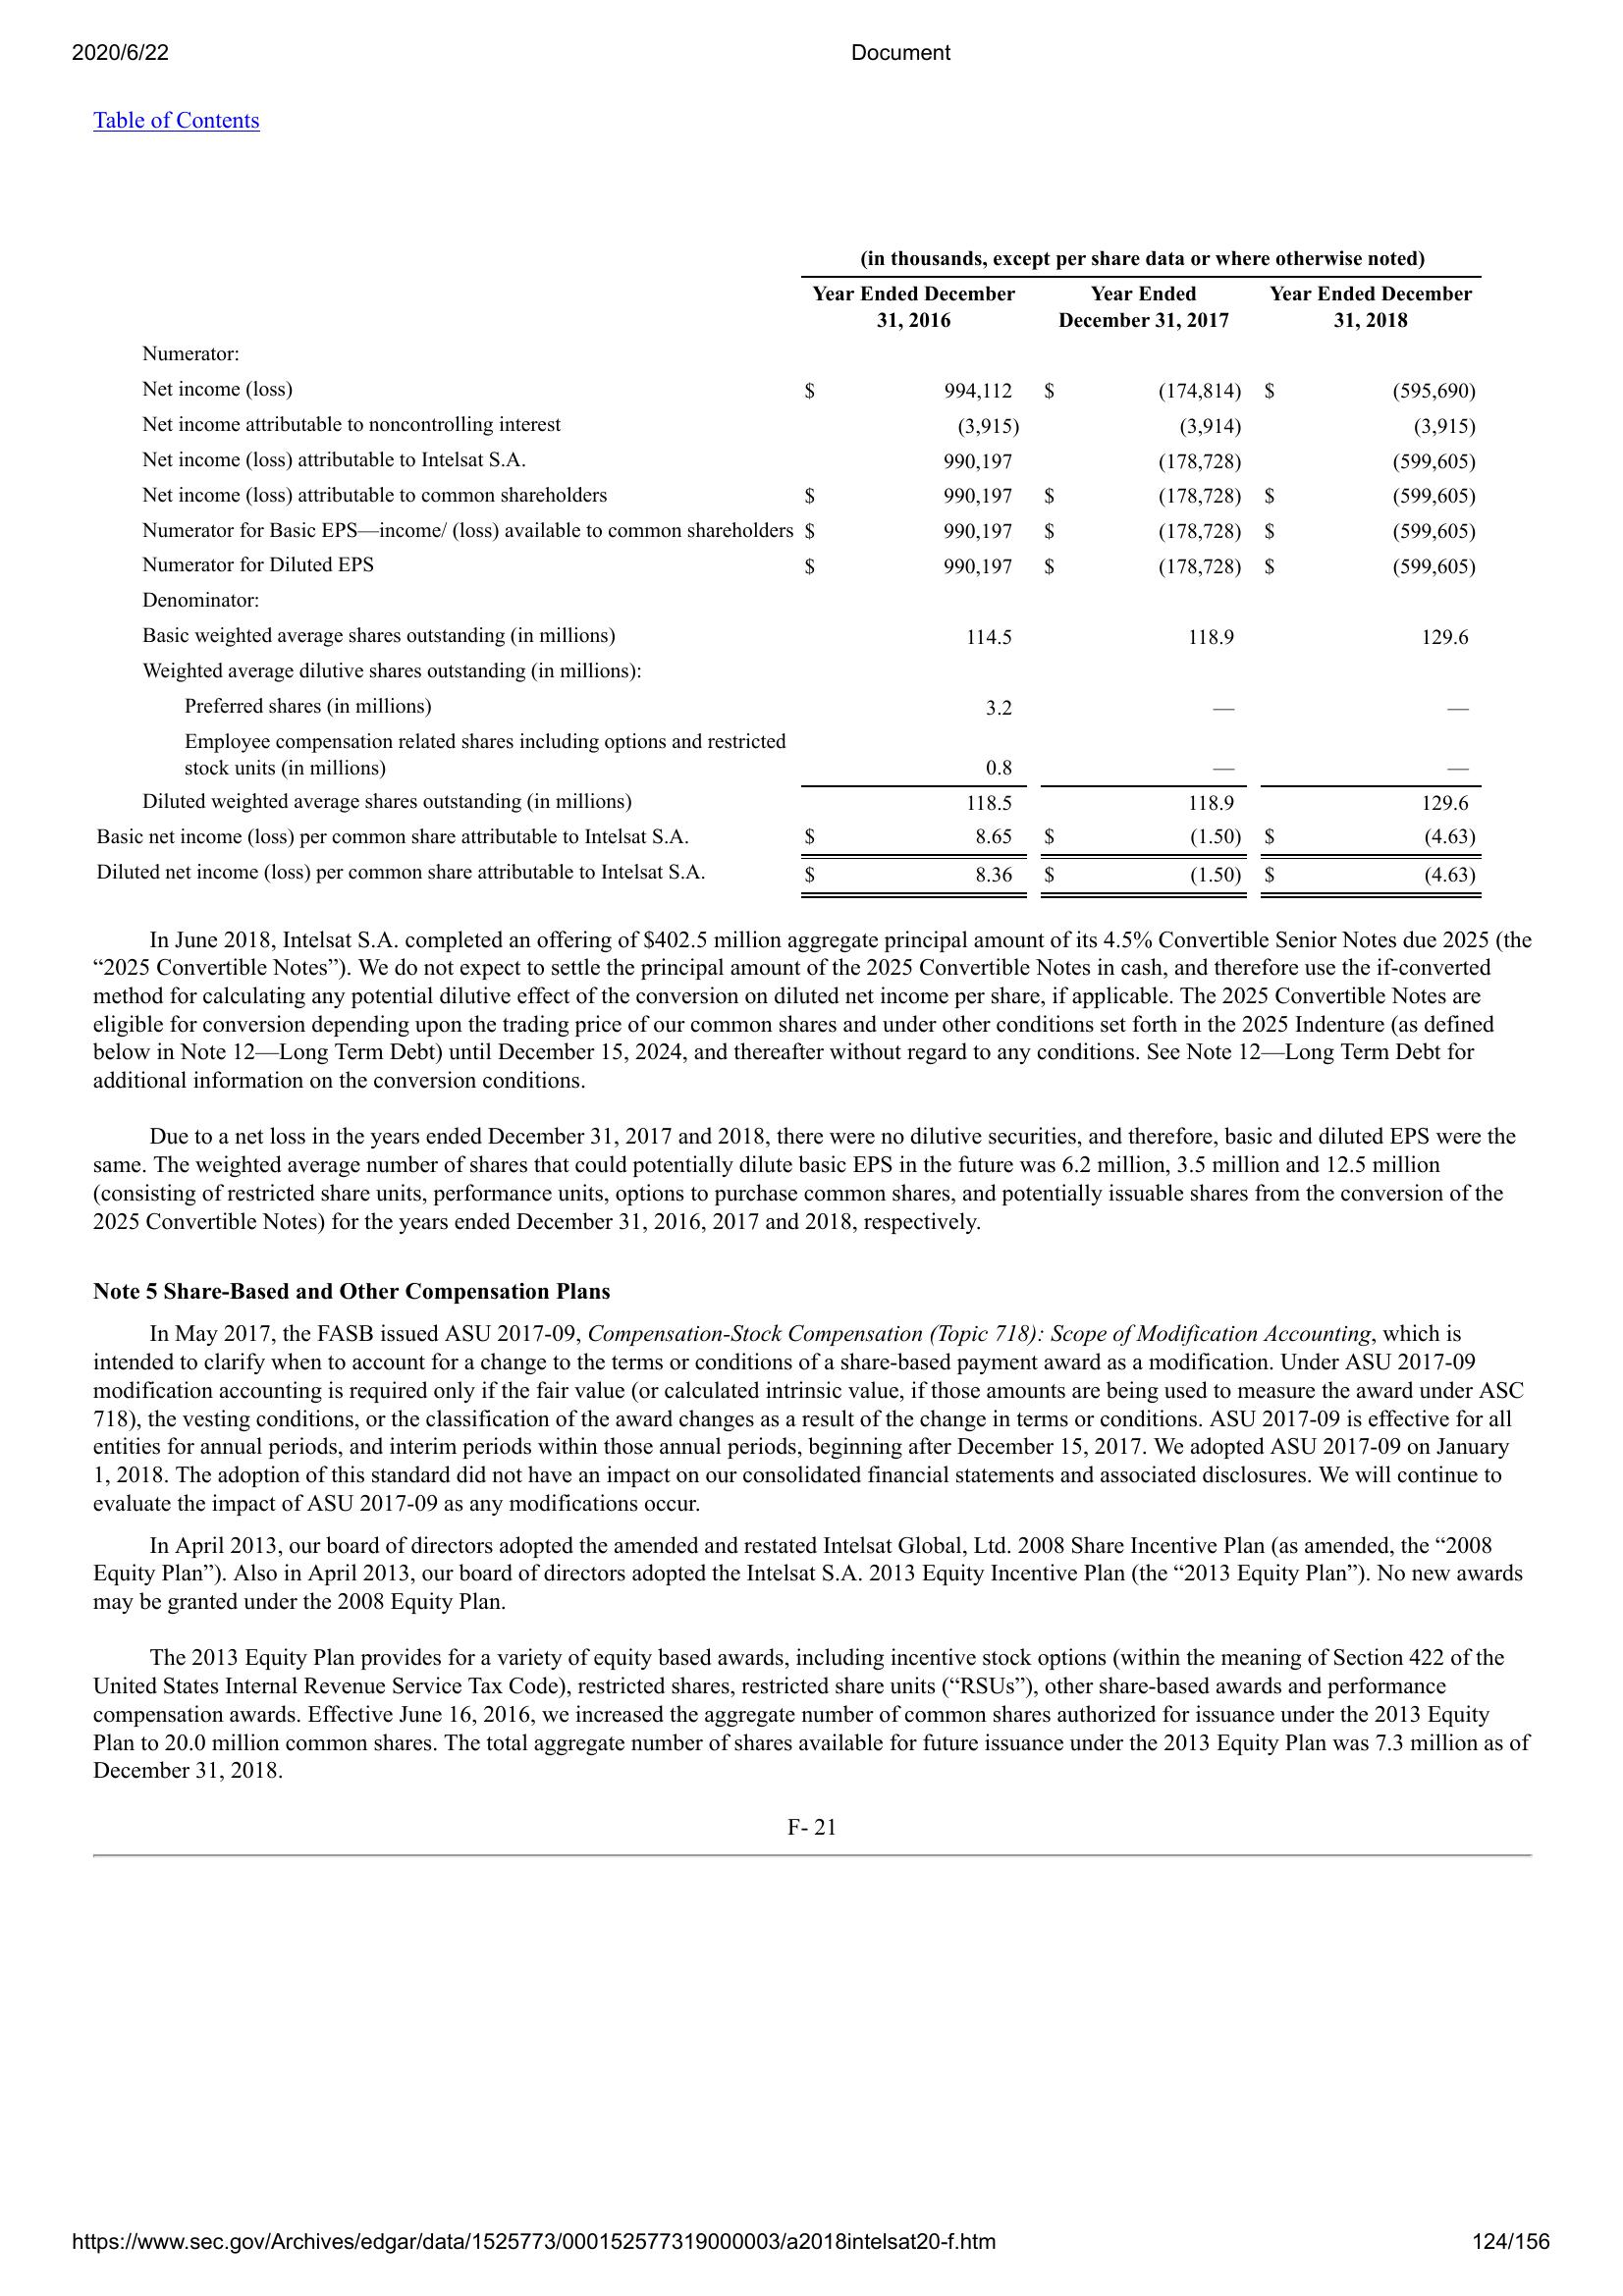table: (91, 242, 1482, 902)
